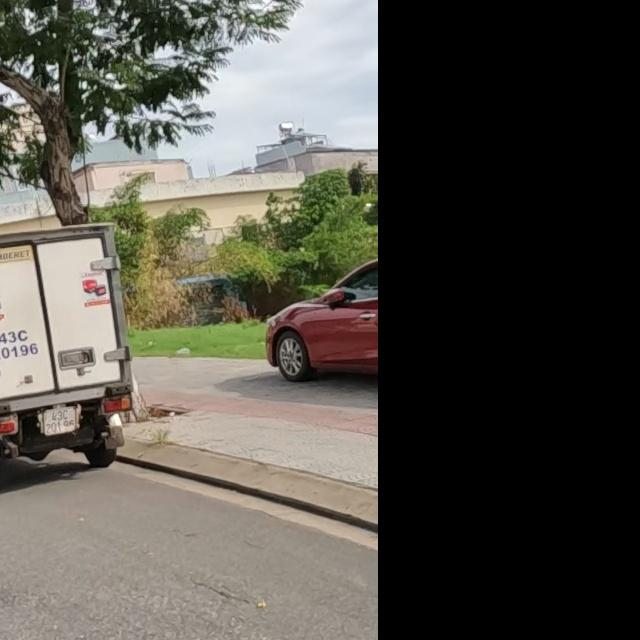license-plate: (37, 402, 80, 437)
